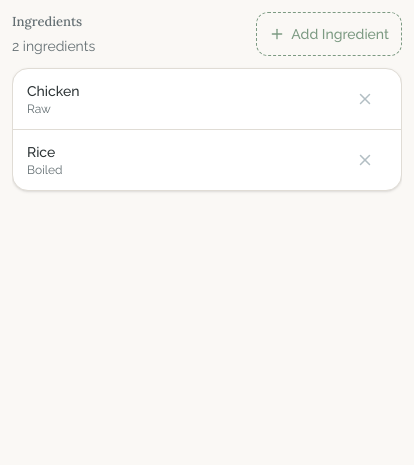
keeps the invalid expanded row open and blocks switching
Click the button "Chicken Raw" at (53, 91), box [27, 69, 333, 129]
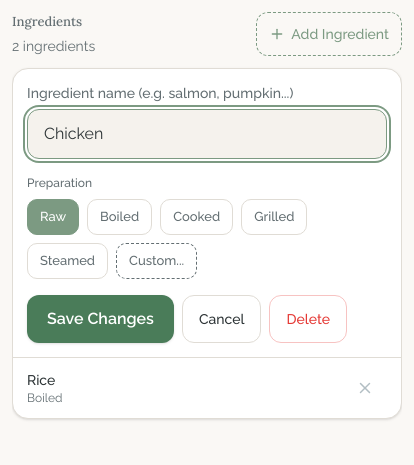
Clear the field labelled "Ingredient name (e.g. salmon, pumpkin...)" at (207, 134), box [27, 109, 387, 159]
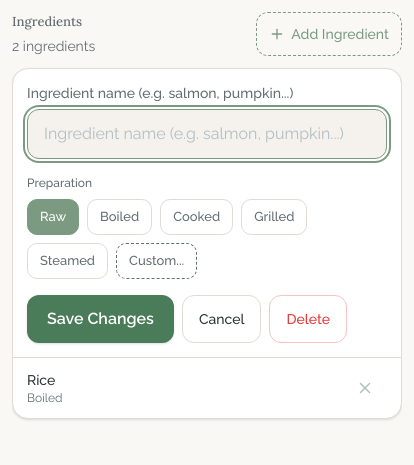
Click the button "Rice Boiled" at (45, 398), box [27, 358, 333, 418]
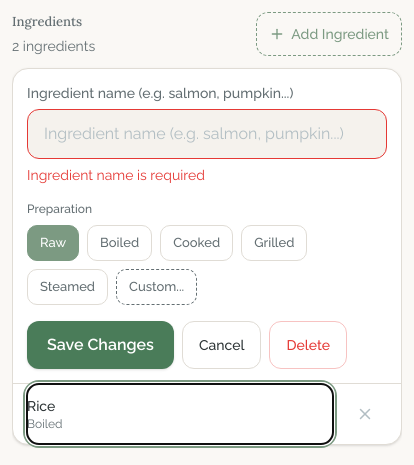
Expected: the text "Ingredient name is required" is shown, [27, 167, 205, 183]
